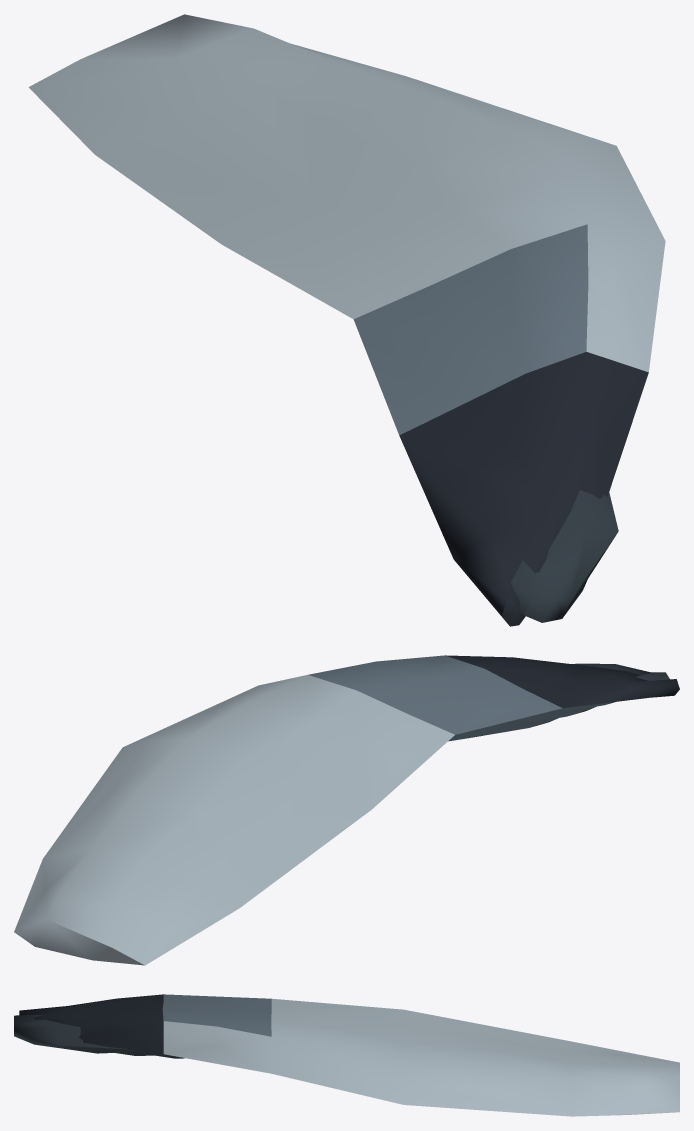
Rendered from SM_GullWingR.fbx.
The picture shows the model from 3 angles, top to bottom: view 1: azimuth 30°, elevation 25°; view 2: azimuth 150°, elevation 25°; view 3: azimuth 270°, elevation 25°; orthographic projection. The views are drawn at different scales.
Visible parts, largest first — view 1: SM_GullWingR; view 2: SM_GullWingR; view 3: SM_GullWingR.
Part boxes in pixels (x1,y1,x2,y2): SM_GullWingR: [28, 14, 665, 626]; SM_GullWingR: [14, 655, 679, 965]; SM_GullWingR: [14, 994, 679, 1116].
Bounding box in the file's own units: 24 × 55.45 × 6.35.
Materials: 1 (1 with a texture image).
